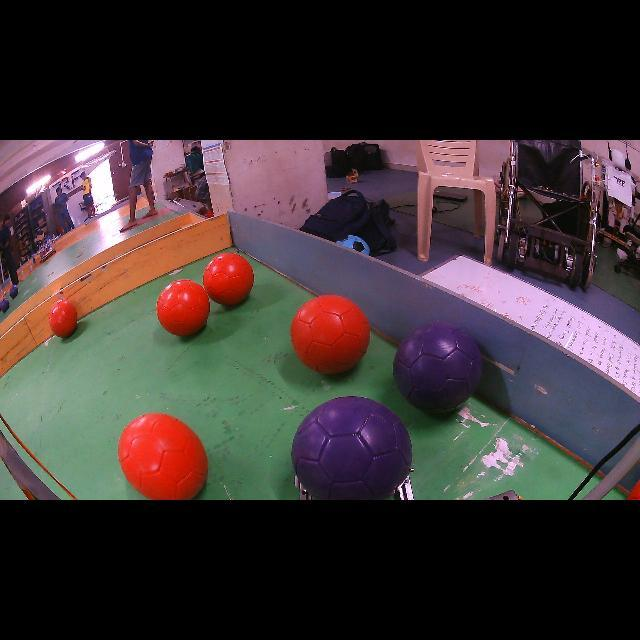P: (291, 397, 414, 495), (392, 321, 482, 414), (0, 298, 10, 312)
R: (119, 412, 208, 500), (290, 295, 370, 374), (156, 280, 210, 336), (202, 252, 254, 305), (50, 299, 78, 338)
